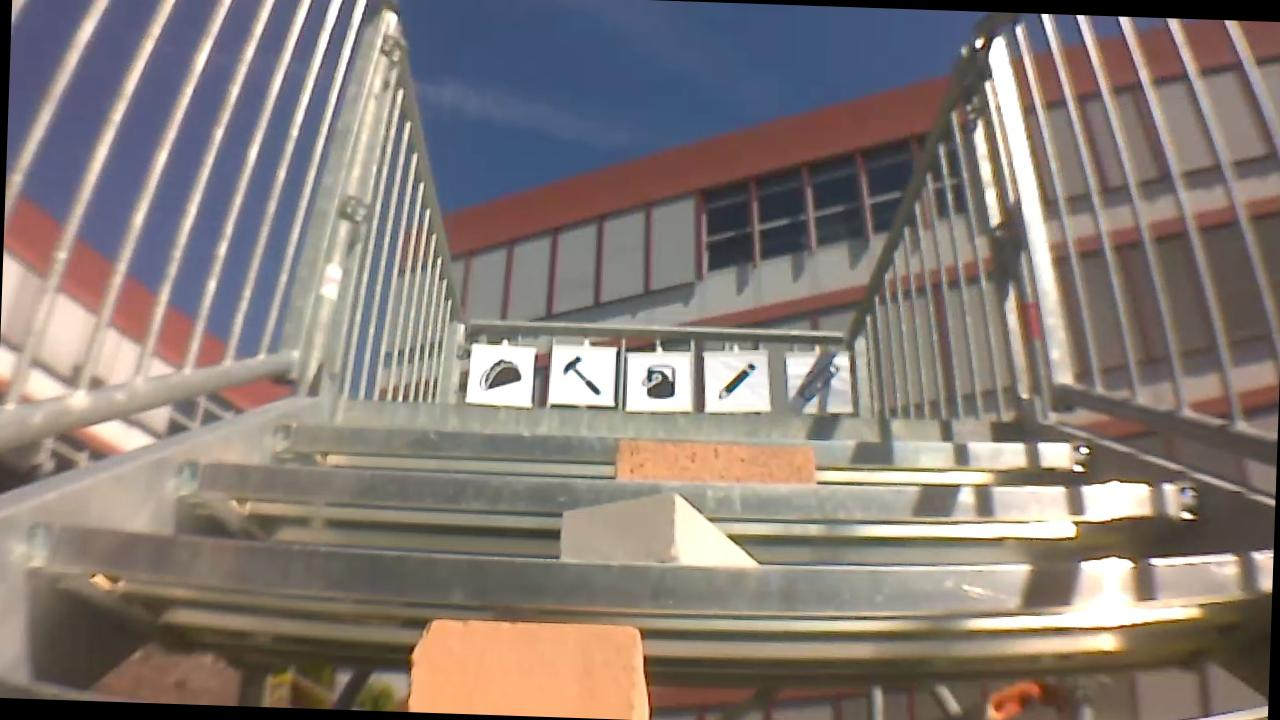brick: (401, 608, 640, 720), (553, 493, 772, 572), (603, 436, 820, 485)
edge: (16, 549, 1272, 642), (162, 462, 1200, 542), (260, 410, 1099, 490), (316, 388, 1030, 453)
